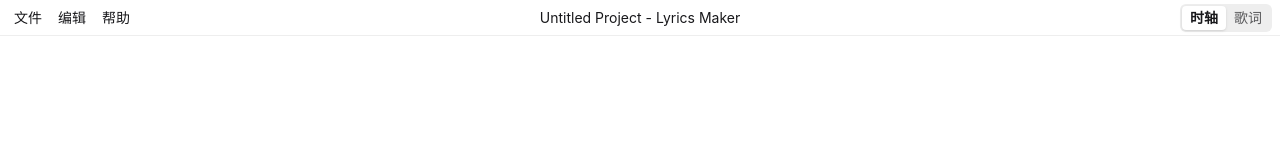
Test case: menuBar › translates project.setTitle in undo and redo menu labels
Click the button with test id "menu-trigger-edit": (72, 18) 52,6 -> 92,30
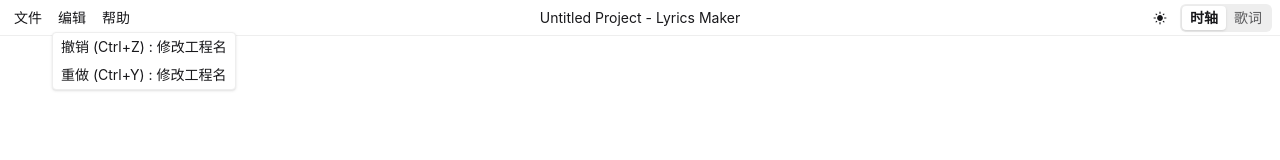
Expected: the menu item with test id "menu-undo" shows "修改工程名", 53,32 -> 235,60
Expected: the menu item with test id "menu-redo" shows "修改工程名", 53,60 -> 235,88
